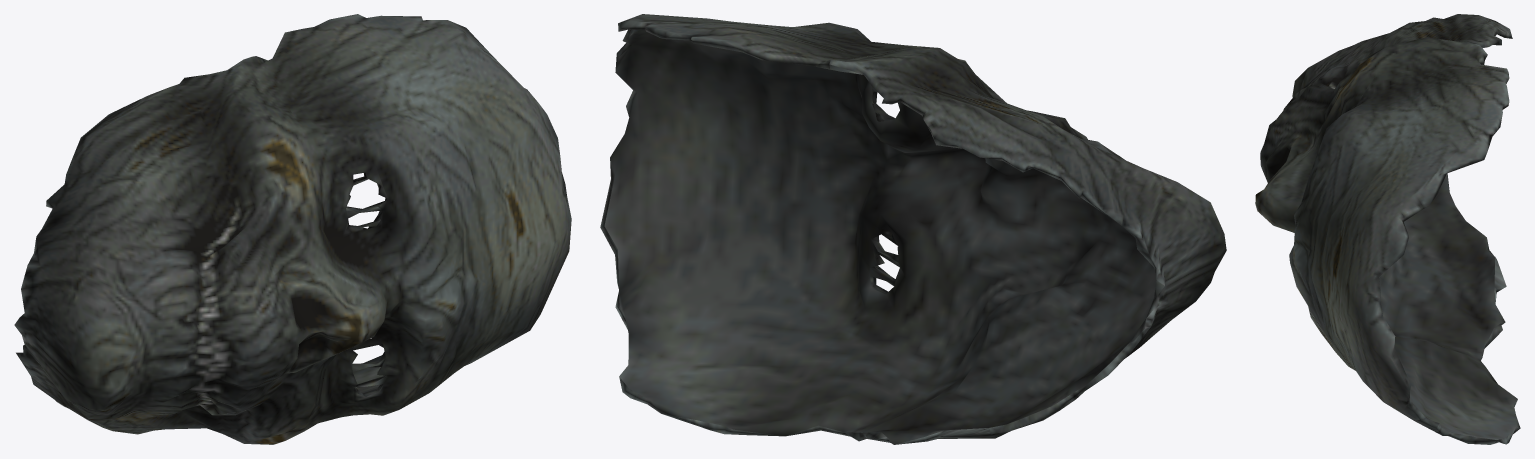
The model's file is M_DecrepitMask.fbx.
The picture shows the model from 3 angles, left to right: view 1: azimuth 30°, elevation 25°; view 2: azimuth 150°, elevation 25°; view 3: azimuth 270°, elevation 25°; orthographic projection. The views are drawn at different scales.
Visible parts, largest first — view 1: Mask12; view 2: Mask12; view 3: Mask12.
Part boxes in pixels (box(x1,y1,x2,y2)): Mask12: box(14, 14, 571, 444); Mask12: box(600, 14, 1226, 444); Mask12: box(1255, 14, 1520, 444).
Bounding box in the file's own units: 0.177 × 0.1159 × 0.0849.
